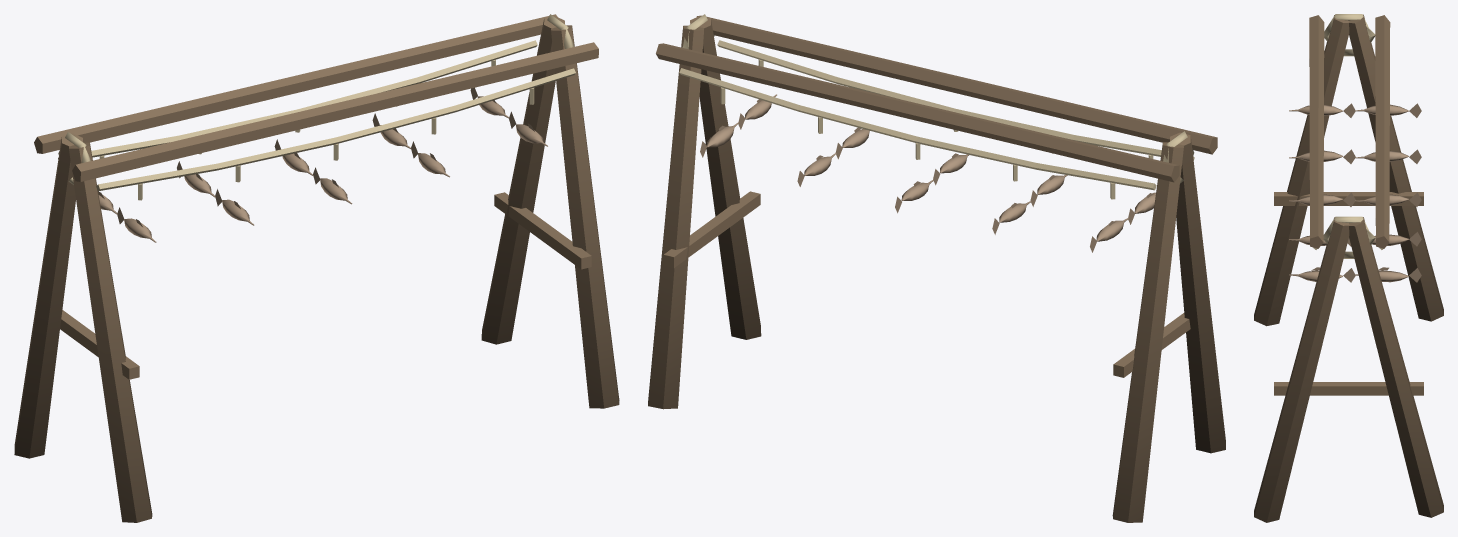
Rendered from berk_drying_rack.glb.
The picture shows the model from 3 angles, left to right: view 1: azimuth 30°, elevation 25°; view 2: azimuth 150°, elevation 25°; view 3: azimuth 270°, elevation 25°; orthographic projection. The views are drawn at different scales.
Parts seen in each view (by area): view 1: berk_drying_rack; view 2: berk_drying_rack; view 3: berk_drying_rack.
Part boxes in pixels (x1,y1,x2,y2): berk_drying_rack: [14, 14, 619, 522]; berk_drying_rack: [648, 14, 1225, 522]; berk_drying_rack: [1254, 14, 1443, 522].
Bounding box in the file's own units: 3.44 × 2.22 × 1.27.
